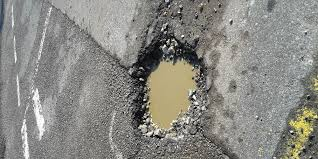pothole: (103, 32, 250, 138)
